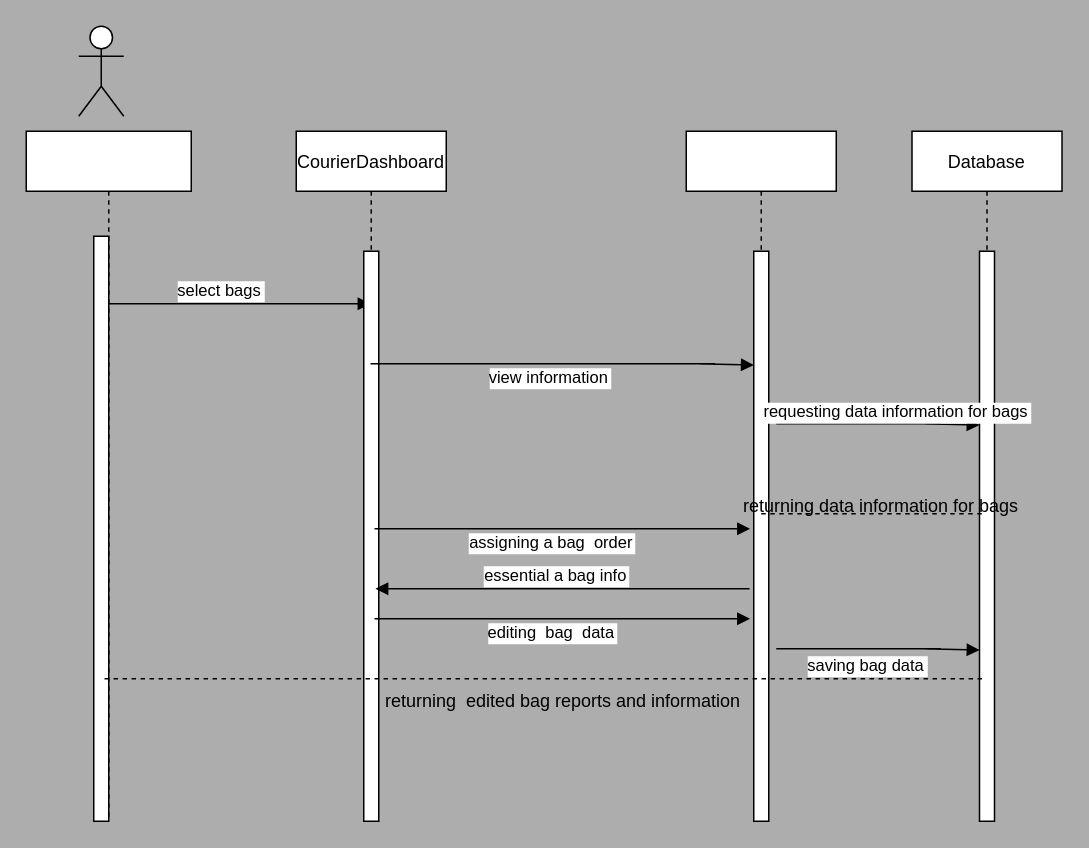
Some shapes in this 1089 by 848 pixel diagram are drawn without their labels. Here are the shapes that lost their labels. From the top down, the centre of each, then its label:
[108,475]: Courier
[760,475]: Server
